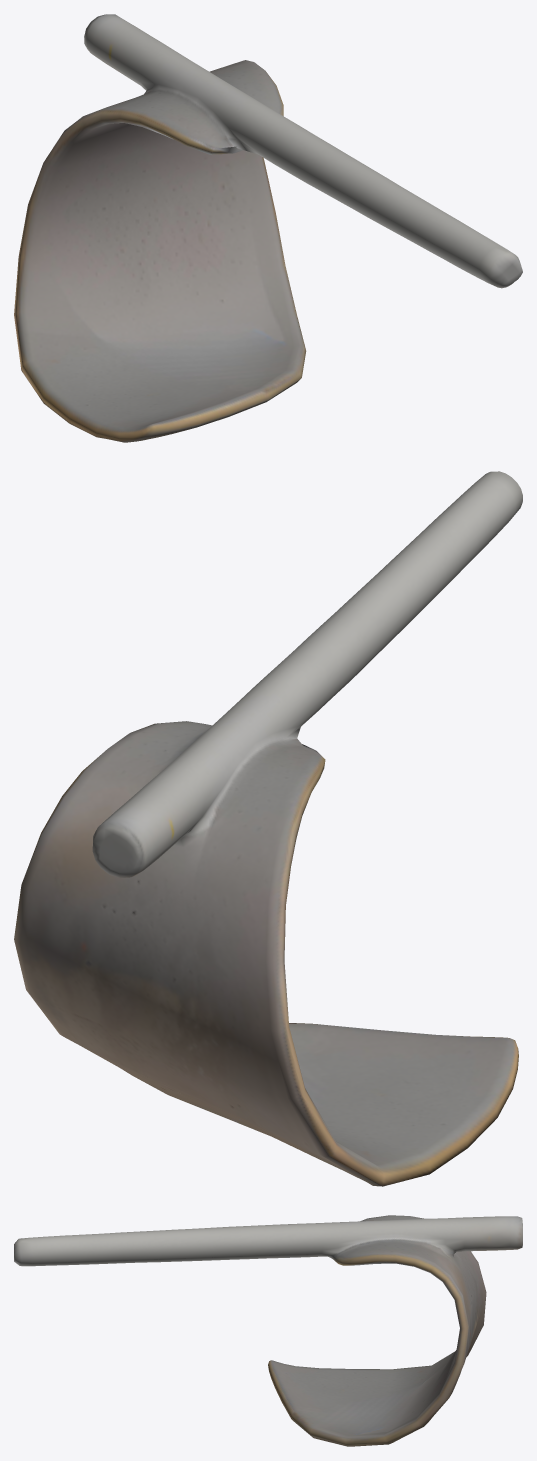
The model's file is 6239925-bench-modern.glb.
The picture shows the model from 3 angles, top to bottom: view 1: azimuth 30°, elevation 25°; view 2: azimuth 150°, elevation 25°; view 3: azimuth 270°, elevation 25°; orthographic projection. The views are drawn at different scales.
Visible parts, largest first — view 1: Retopo_neural_node_88102e31-f4ae-454c-997d-1669e3e6225a; view 2: Retopo_neural_node_88102e31-f4ae-454c-997d-1669e3e6225a; view 3: Retopo_neural_node_88102e31-f4ae-454c-997d-1669e3e6225a.
Boxes of the visible parts, <box> form: Retopo_neural_node_88102e31-f4ae-454c-997d-1669e3e6225a: <box>14,14,522,442</box>; Retopo_neural_node_88102e31-f4ae-454c-997d-1669e3e6225a: <box>14,471,522,1186</box>; Retopo_neural_node_88102e31-f4ae-454c-997d-1669e3e6225a: <box>14,1215,522,1446</box>.
Size of the model in its own units: 0.4203 by 0.4387 by 0.9488.
1 material, 1 textured.
